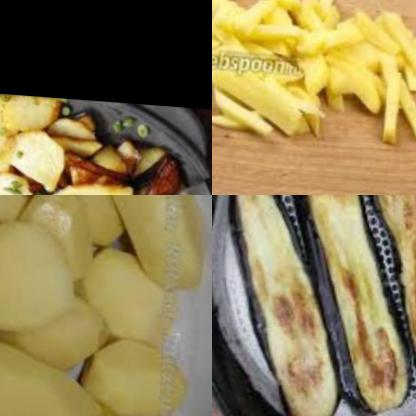eggplant: (224, 195, 416, 416), (363, 195, 416, 371)
potato: (212, 0, 416, 158), (0, 87, 188, 195), (83, 254, 184, 362), (0, 337, 129, 416), (0, 286, 114, 369), (0, 215, 80, 333), (114, 195, 212, 281), (96, 331, 194, 416), (35, 195, 118, 270), (0, 195, 42, 230)
